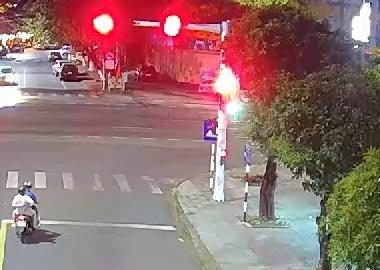red_light: (214, 60, 240, 115), (92, 13, 117, 36), (161, 13, 184, 37)
stop_line: (2, 215, 189, 233)
